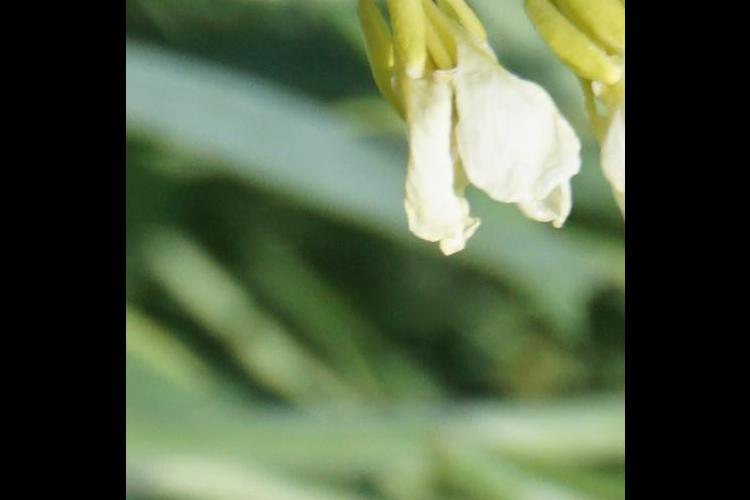white: (363, 1, 560, 225), (559, 1, 623, 238)
